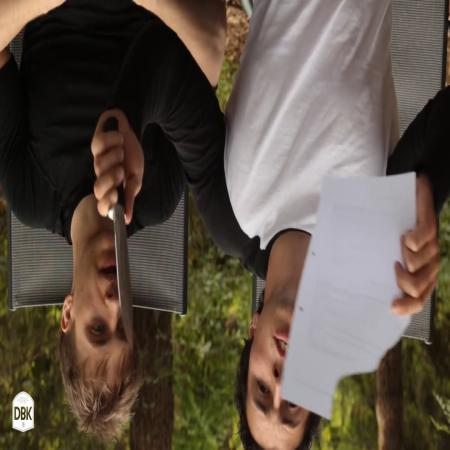long weapon: (88, 105, 140, 358)
